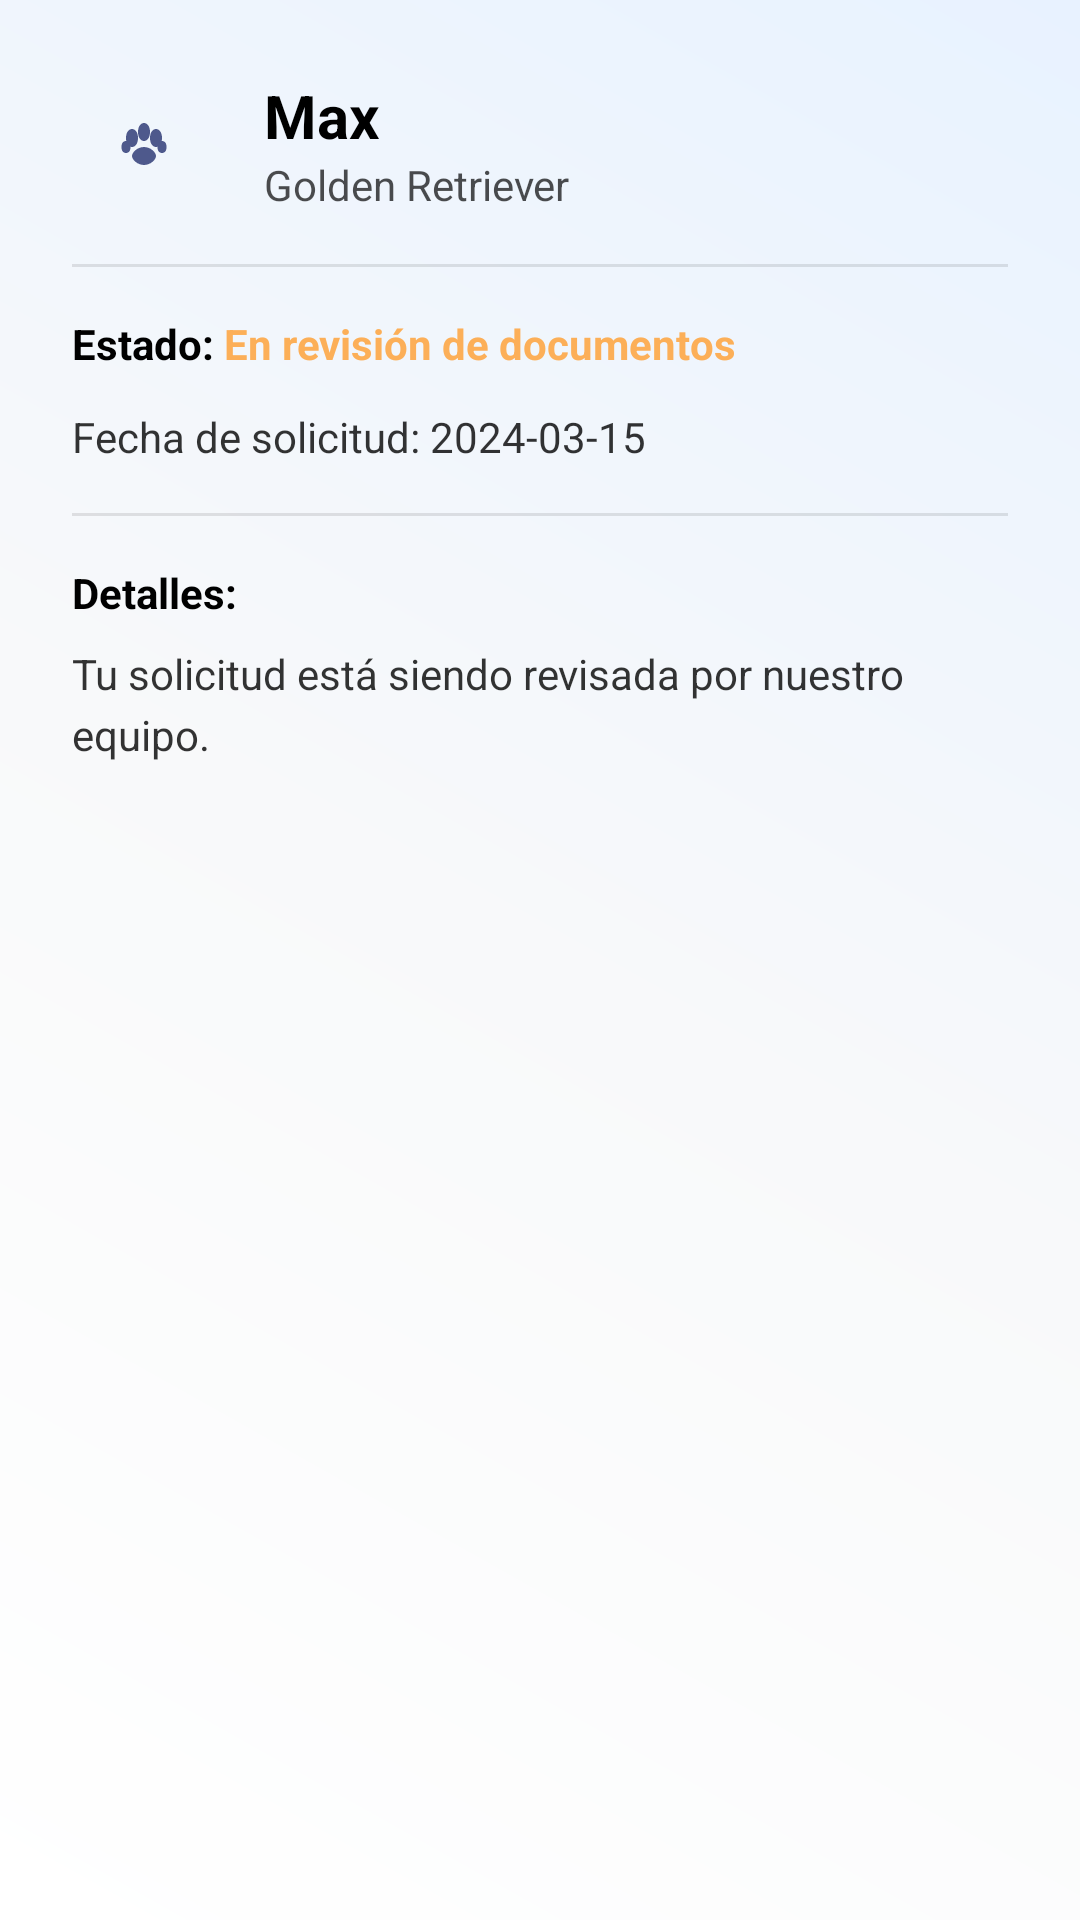

Screen size 1080×1920. Icon name, then its box in pixels as [x1, y1, x2, y2]:
paw: [121, 123, 167, 165]
